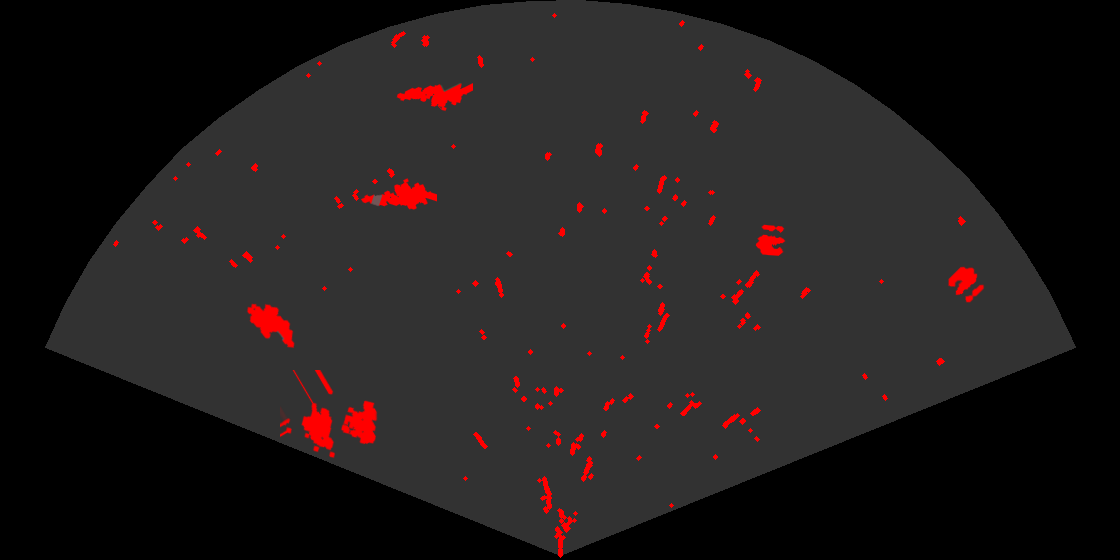AUV: (245, 302, 296, 350)
ball: (946, 265, 986, 304), (754, 223, 787, 257)
cage: (280, 370, 379, 460)
frogman: (359, 177, 437, 211), (395, 82, 473, 112)
